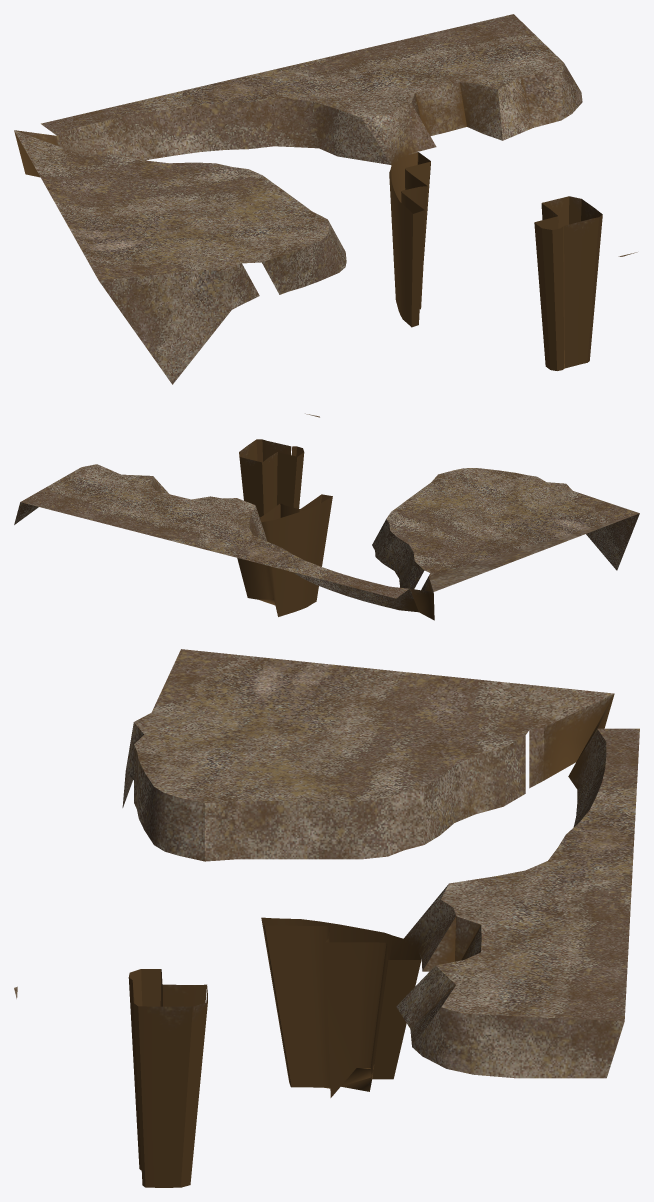
File: suelo_exterior_1.obj
3 renders of one model, top to bottom at view 1: azimuth 30°, elevation 25°; view 2: azimuth 150°, elevation 25°; view 3: azimuth 270°, elevation 25°, orthographic. The views are drawn at different scales.
Parts seen in each view (by area): view 1: suelo_exterior_1; view 2: suelo_exterior_1; view 3: suelo_exterior_1.
Boxes of the visible parts, x1,y1,x2,y2 form: suelo_exterior_1: (14,14,637,384); suelo_exterior_1: (14,413,639,620); suelo_exterior_1: (14,649,639,1187).
Bounding box in the file's own units: 1054 × 323 × 739.
Materials: 1 (1 with a texture image).
